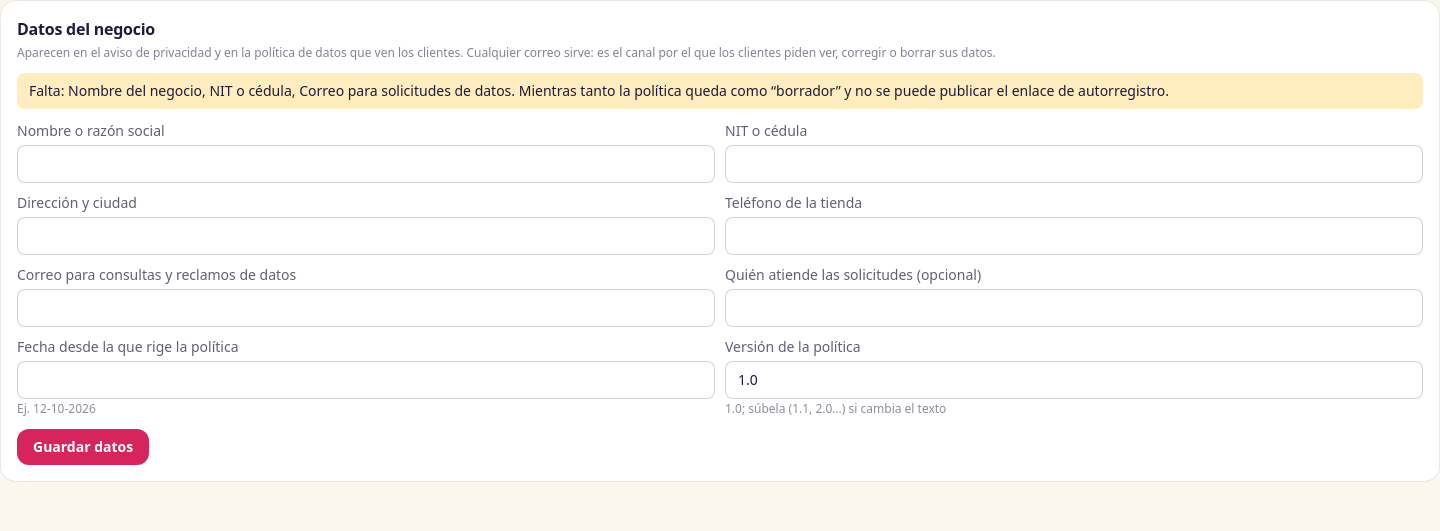
Scenario: DatosNegocio (HU-07): datos del responsable, editables desde la aplicación › si queda algo sin completar lo dice y no promete versión oficial
The width and height of the screenshot is (1440, 531).
Type "Mi tienda" into the field labelled "Nombre o razón social" at (366, 164), box [17, 145, 715, 183]
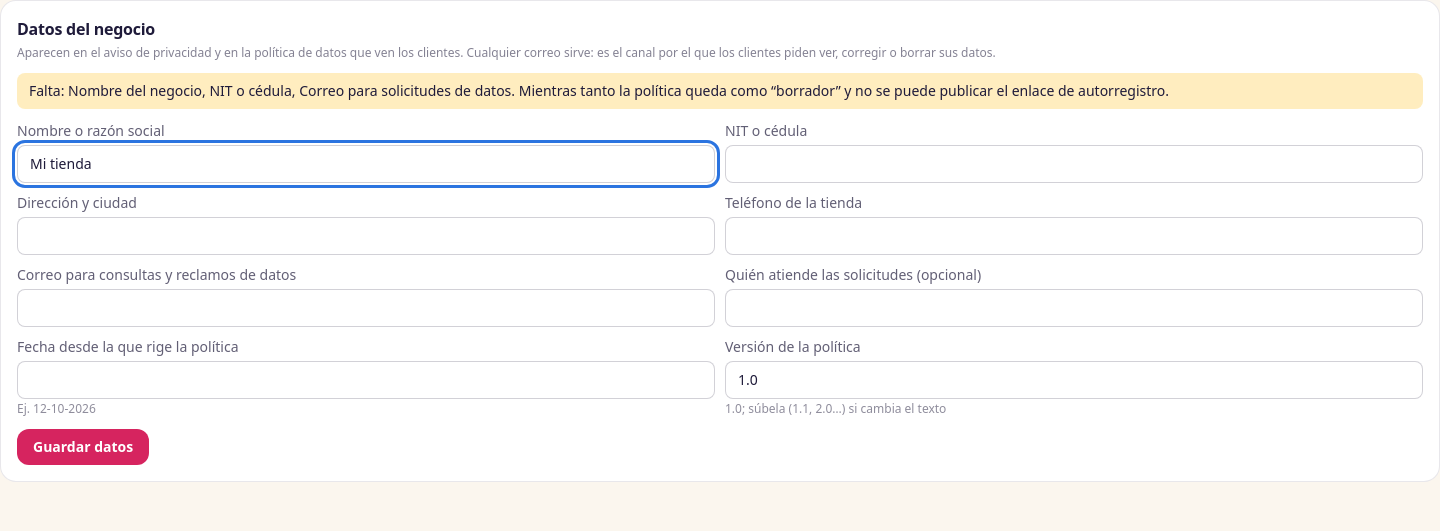
Click the button "Guardar datos" at (83, 447), box [17, 429, 149, 465]
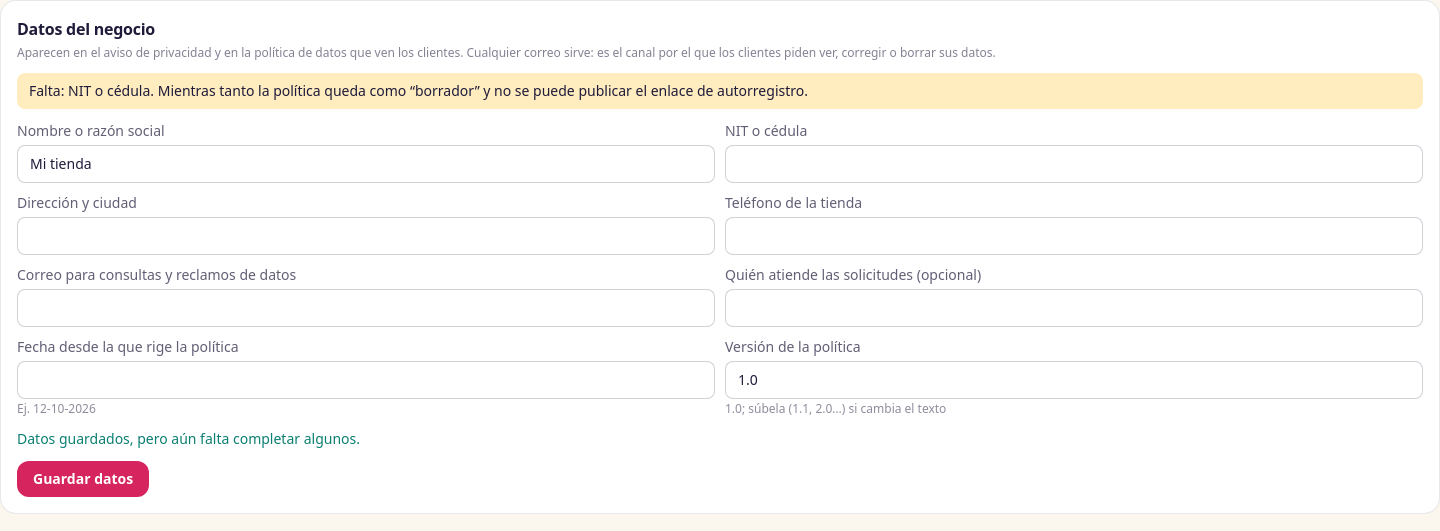
Result: the message shows "aún falta completar" at [17, 429, 360, 448]
